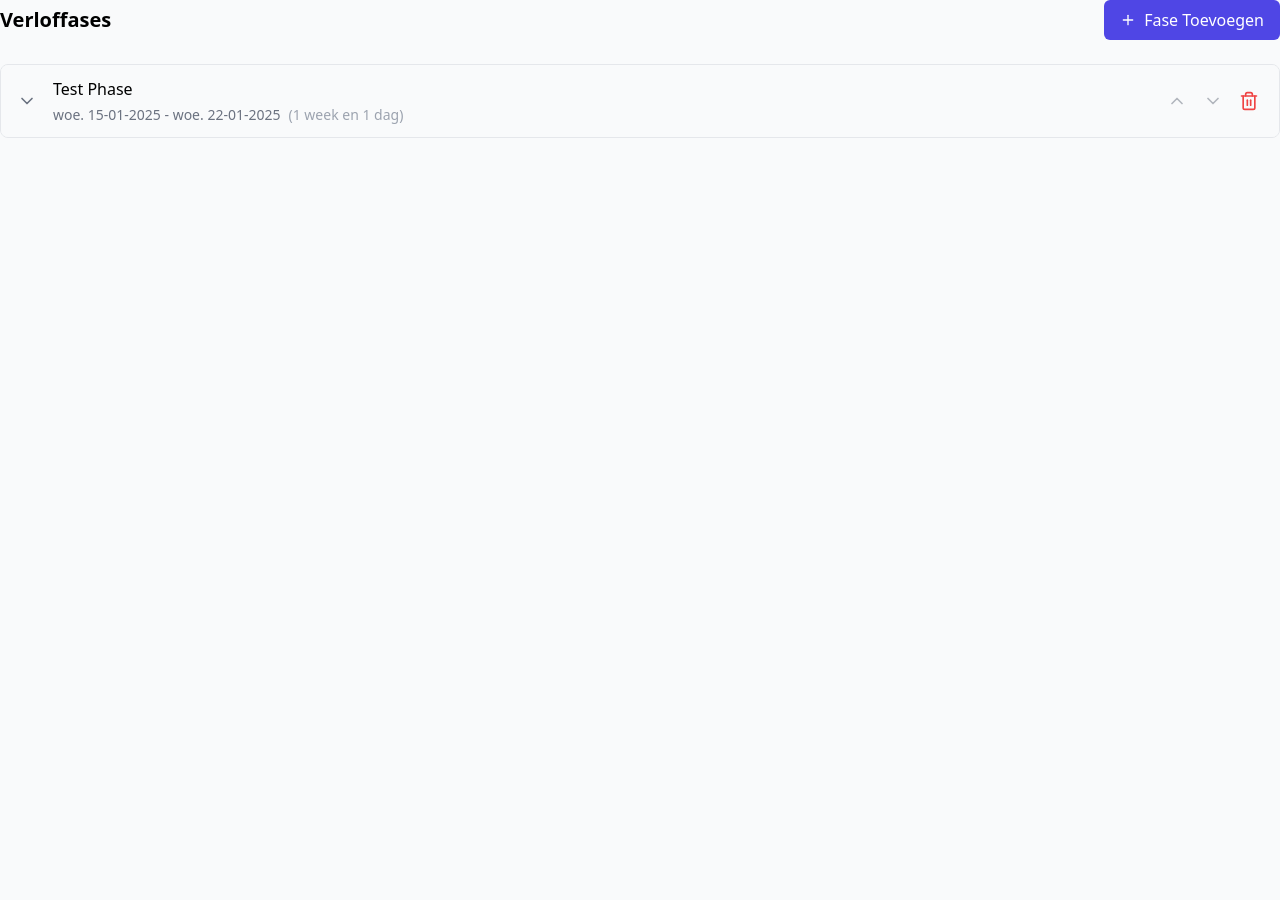
Scenario: LeavePhaseForm › allows toggling phase expansion
Step 1. Click the button named "toon fase details" → click(27, 101), box [17,91,37,111]
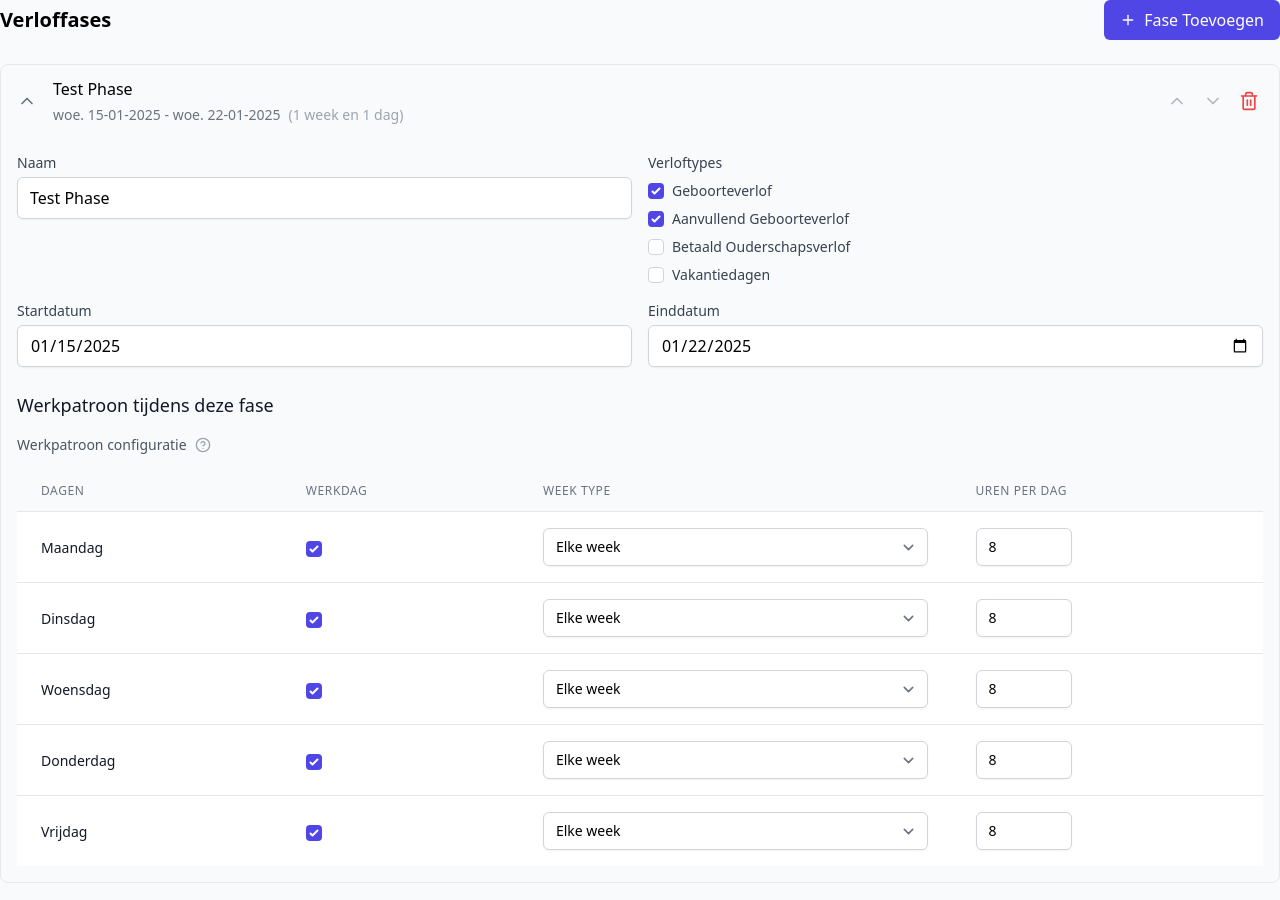
Expected: the field labelled "Naam" is shown, [17,177,632,219]
Expected: the date field labelled "Startdatum" is shown, [17,325,632,367]
Expected: the date field labelled "Einddatum" is shown, [648,325,1263,367]
